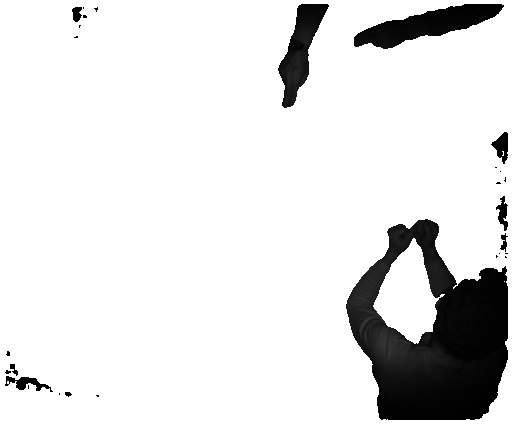fist: (384, 216, 413, 254), (412, 216, 439, 247)
hand: (272, 55, 311, 111), (352, 20, 406, 55)
